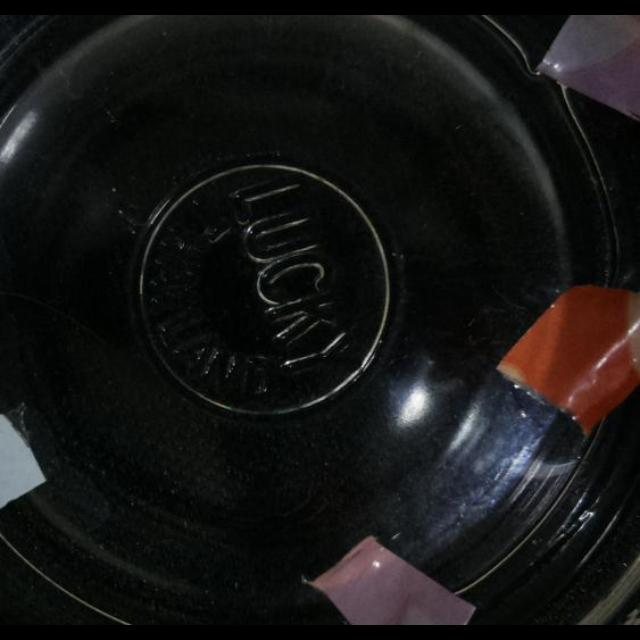Fragment: (498, 282, 638, 432), (308, 536, 474, 624), (544, 17, 638, 131), (0, 411, 44, 513)
